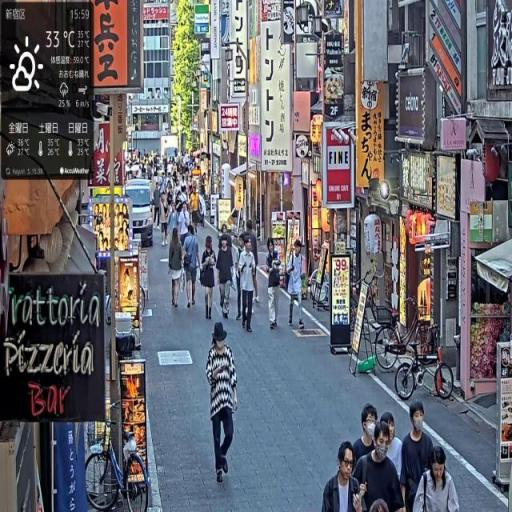person: (206, 320, 239, 484), (357, 422, 404, 512), (401, 398, 436, 512), (411, 444, 461, 512), (321, 441, 367, 512), (239, 236, 259, 335), (285, 237, 305, 331), (352, 405, 380, 471), (182, 222, 201, 311), (201, 237, 220, 323), (218, 233, 236, 321), (267, 239, 283, 329), (168, 228, 185, 311), (160, 195, 171, 246)
